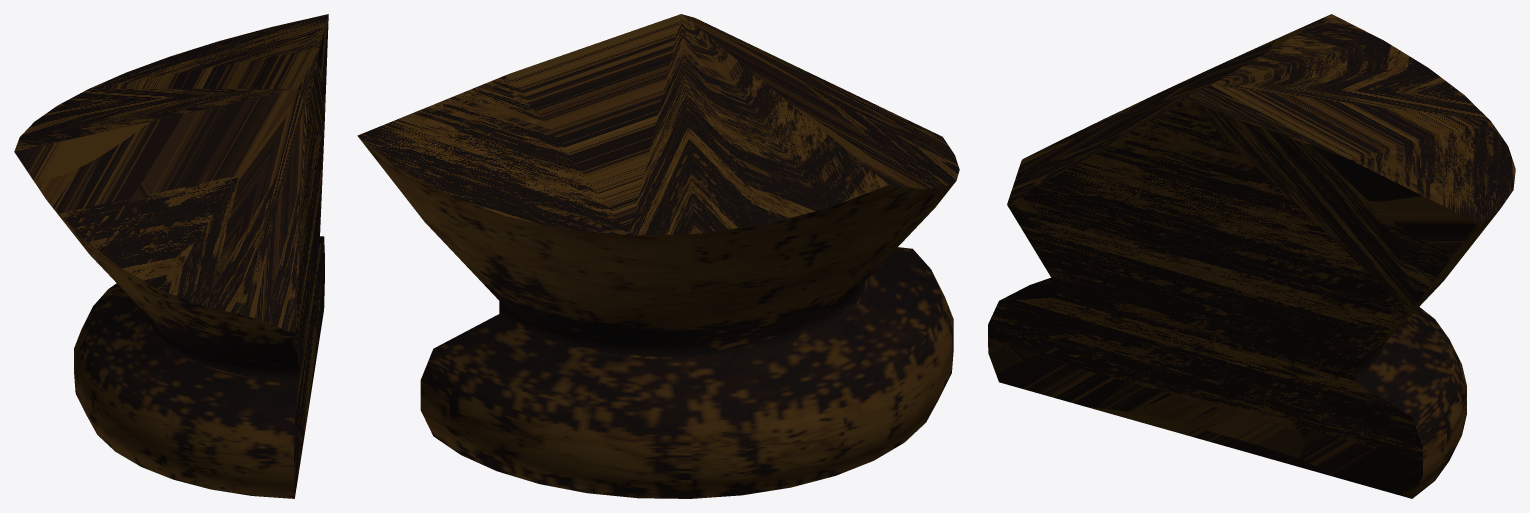
Rendered from PoteryPiece8.fbx.
3 views of the same model, side by side, from view 1: azimuth 30°, elevation 25°; view 2: azimuth 150°, elevation 25°; view 3: azimuth 270°, elevation 25° (orthographic). The views are drawn at different scales.
Visible parts, largest first — view 1: Cylinder_cell.007; view 2: Cylinder_cell.007; view 3: Cylinder_cell.007.
Part boxes in pixels (x1,y1,x2,y2): Cylinder_cell.007: (14, 14, 328, 498); Cylinder_cell.007: (357, 14, 959, 498); Cylinder_cell.007: (988, 14, 1515, 498).
Bounding box in the file's own units: 145 × 116 × 158.
